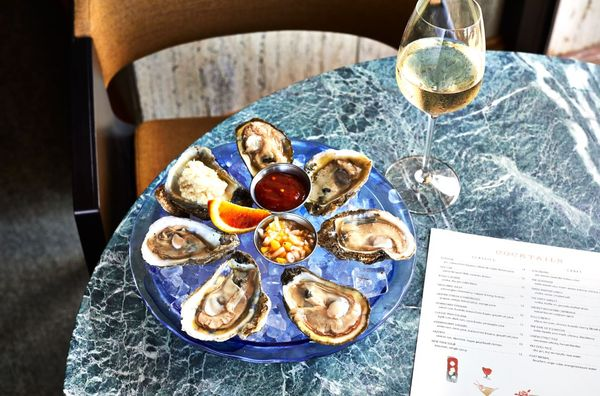sushi: (281, 269, 371, 345), (254, 212, 317, 267), (250, 163, 311, 213)
